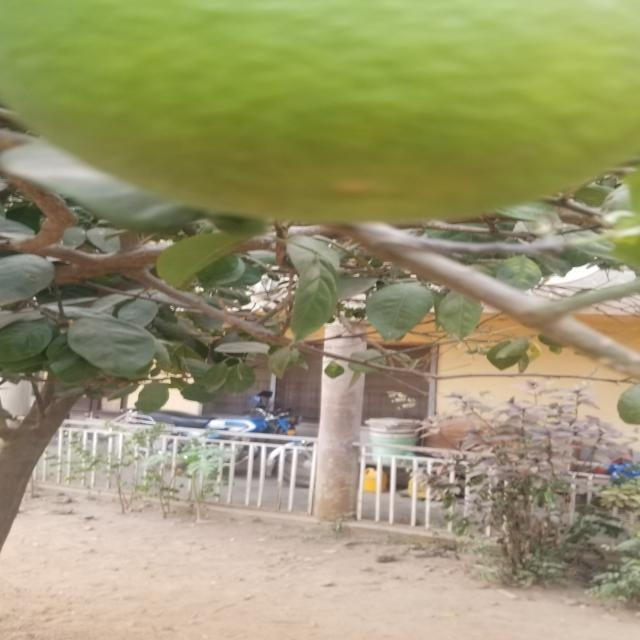agrume: (0, 1, 640, 231)
